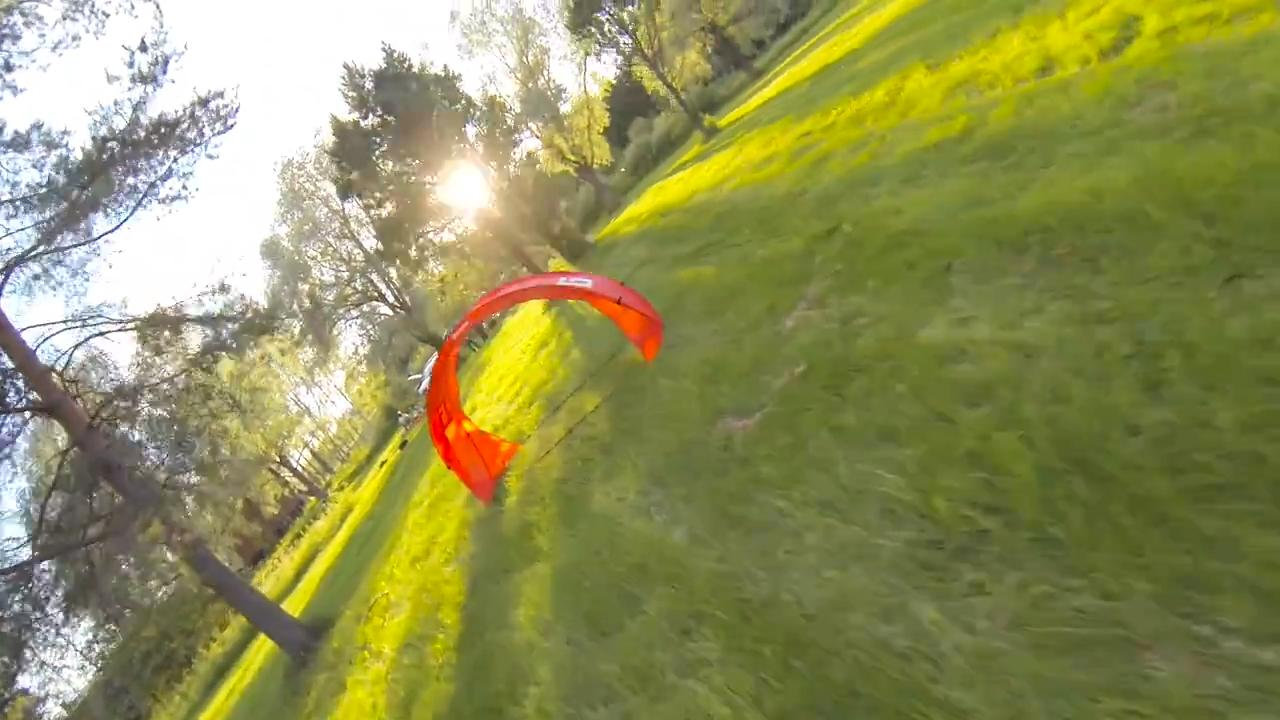gate: (422, 270, 673, 506)
